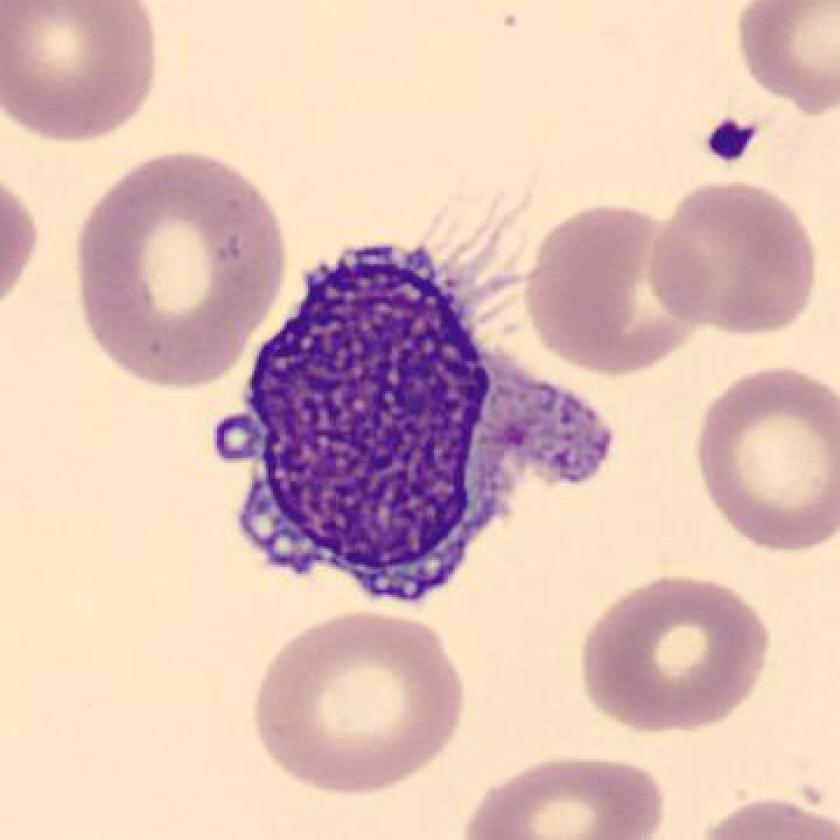monocyte: (185, 218, 645, 649)
